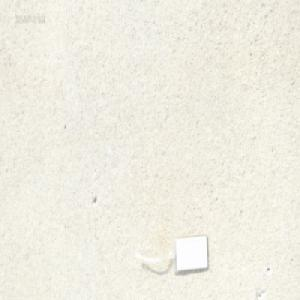LuggageTag: (129, 232, 206, 274)
